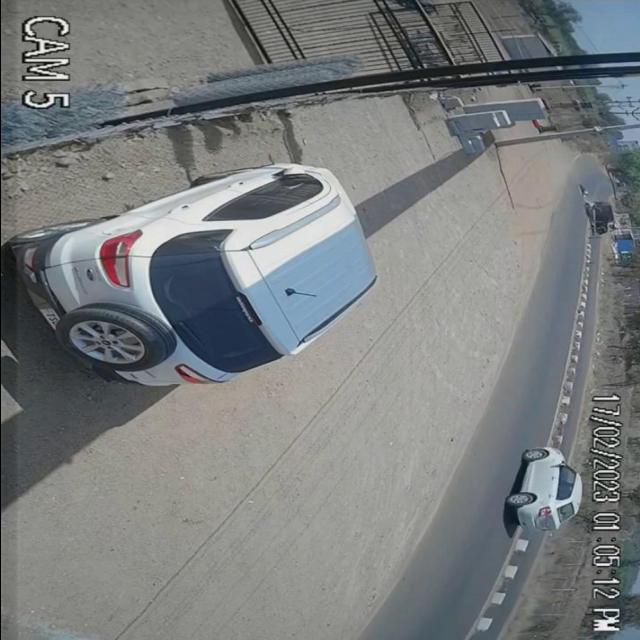accident: (573, 186, 619, 238)
